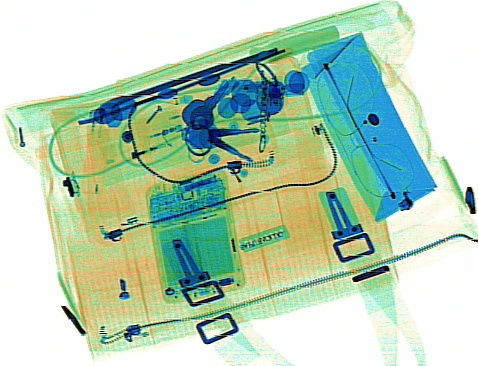lighter: (88, 122, 185, 163)
